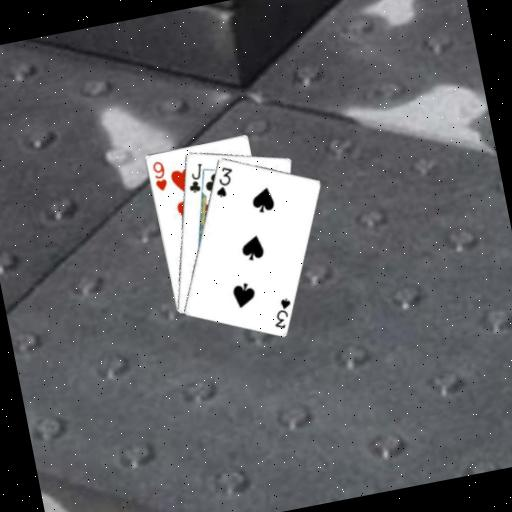3S: (267, 294, 297, 332), (208, 163, 238, 200)
9H: (148, 157, 170, 193)
JC: (182, 159, 208, 195)
